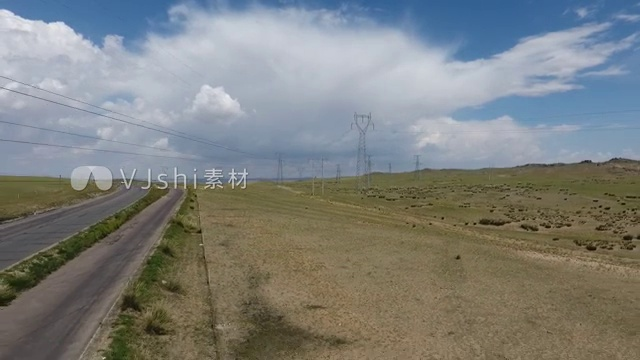tower_body: (346, 108, 384, 194)
tower_foot: (356, 174, 372, 191)
tower_head: (349, 111, 376, 133)
